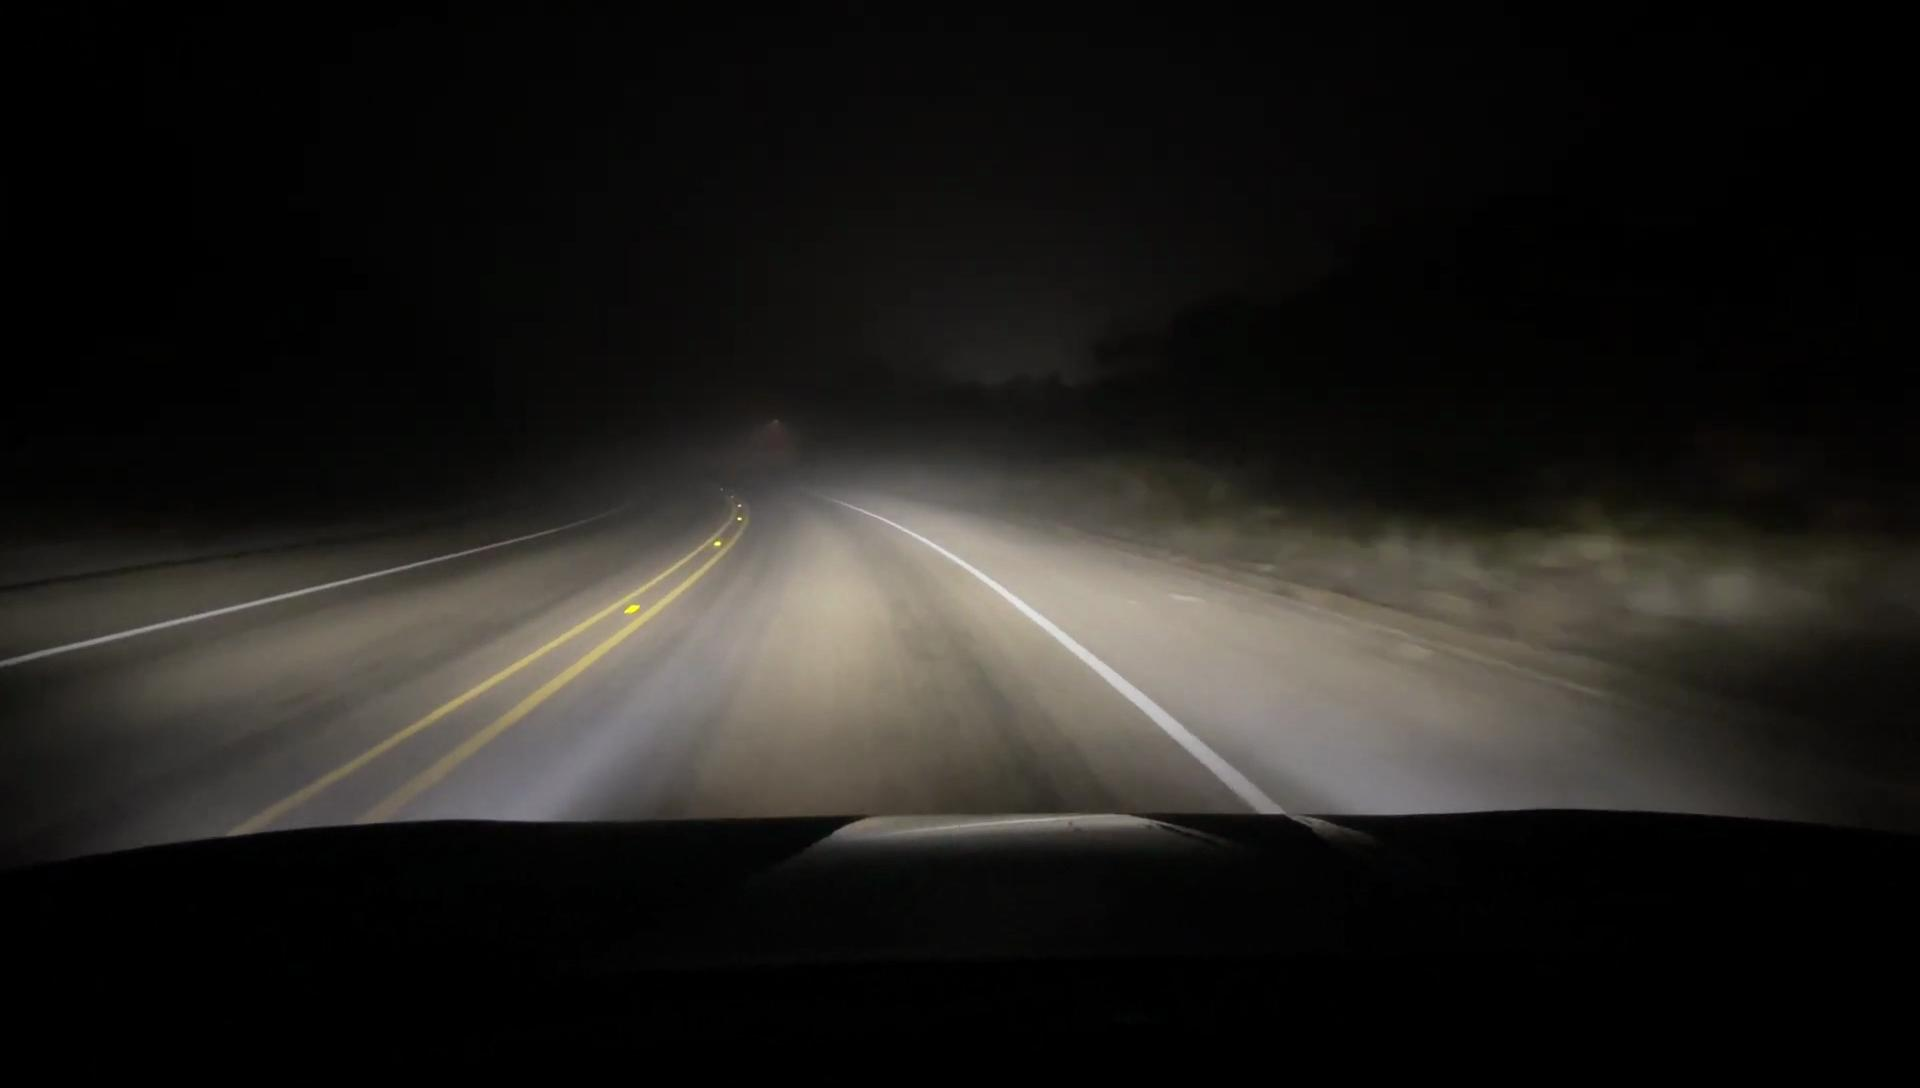road-lanes: (436, 501, 1261, 812)
